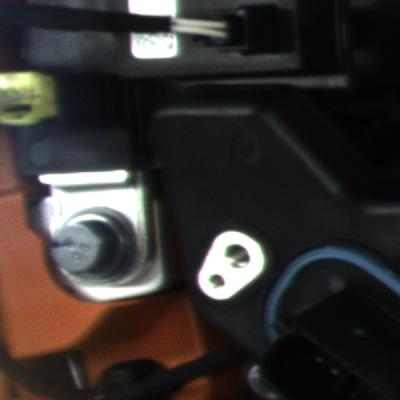nut_b: (49, 201, 157, 293)
